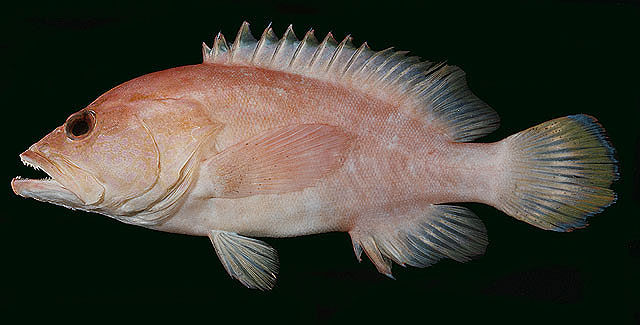fish: (12, 22, 621, 291)
